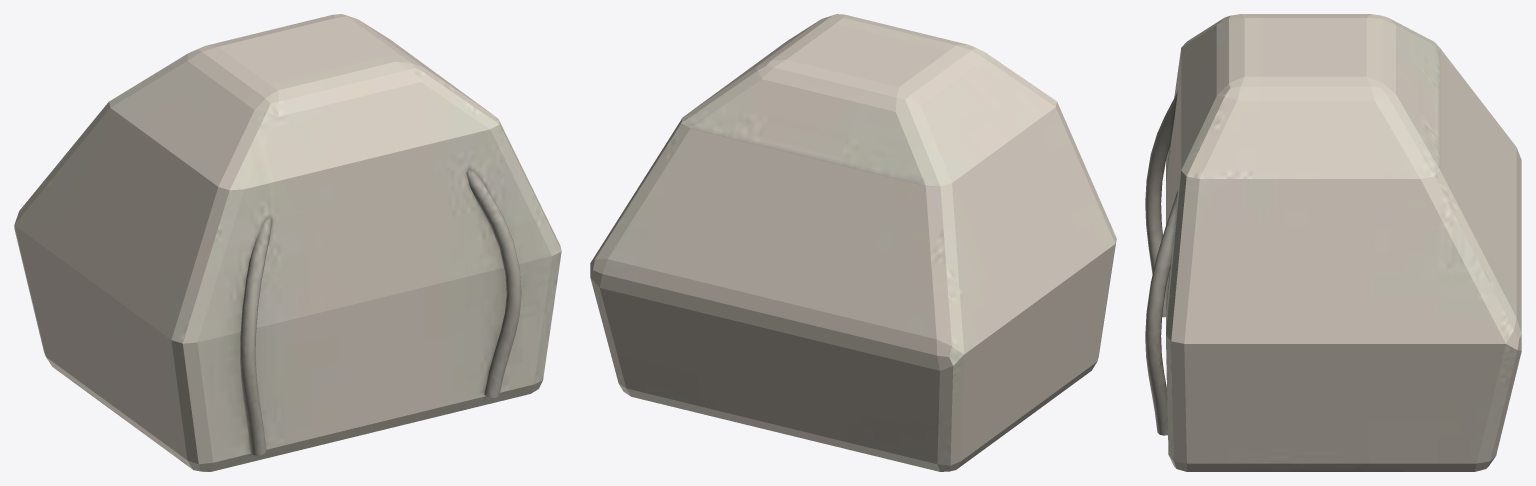
The model's file is dressing-dust-small.glb.
3 renders of one model, left to right at view 1: azimuth 30°, elevation 25°; view 2: azimuth 150°, elevation 25°; view 3: azimuth 270°, elevation 25°, orthographic. The views are drawn at different scales.
Parts seen in each view (by area): view 1: case-baked; view 2: case-baked; view 3: case-baked.
Part boxes in pixels (box(x1,y1,x2,y2)): case-baked: box(14, 14, 561, 471); case-baked: box(590, 14, 1116, 471); case-baked: box(1145, 14, 1521, 471).
Bounding box in the file's own units: 0.46 × 0.38 × 0.377.
1 material, 1 textured.
